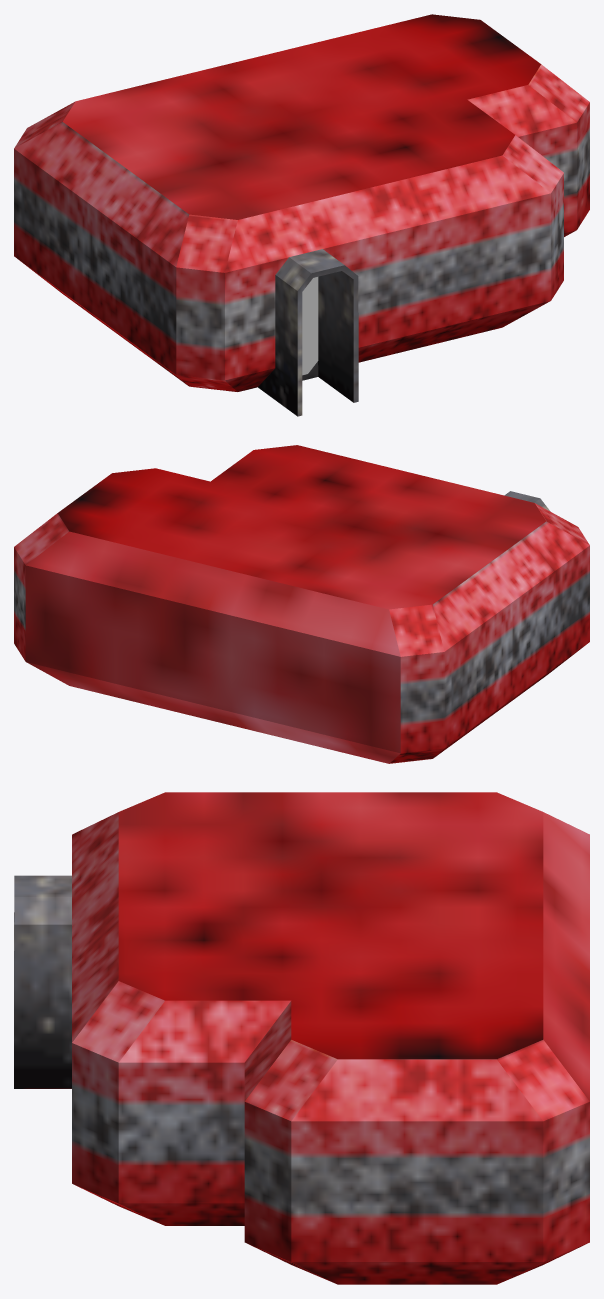
The model's file is Haus.fbx.
3 views of the same model, one above another, from view 1: azimuth 30°, elevation 25°; view 2: azimuth 150°, elevation 25°; view 3: azimuth 270°, elevation 25° (orthographic). The views are drawn at different scales.
Parts seen in each view (by area): view 1: Haus, Din-A-Tür; view 2: Haus; view 3: Haus.
Boxes of the visible parts, <box> form: Haus: <box>14,14,589,416</box>; Din-A-Tür: <box>302,277,318,375</box>; Haus: <box>14,445,589,763</box>; Haus: <box>14,792,589,1284</box>.
Bounding box in the file's own units: 700 × 240 × 556.
